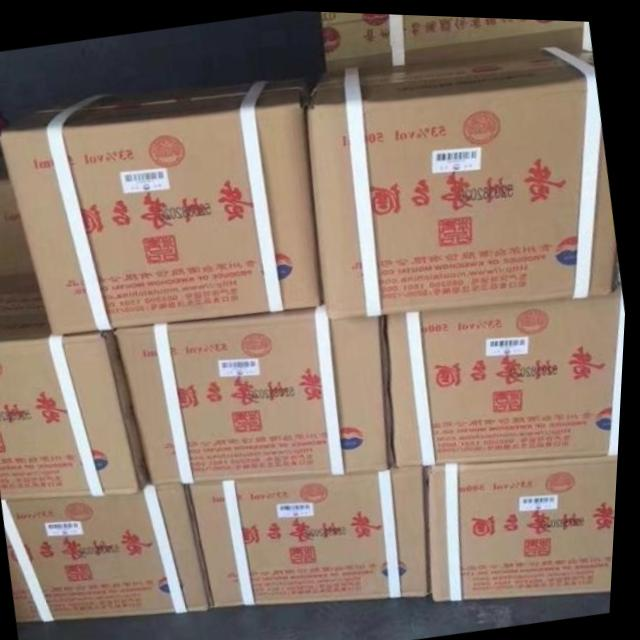box: (306, 41, 618, 316), (0, 76, 330, 334), (389, 239, 628, 462), (117, 300, 399, 483), (192, 460, 438, 605), (0, 273, 154, 499), (8, 479, 219, 622), (427, 449, 622, 599), (321, 9, 584, 70), (0, 153, 38, 277)
